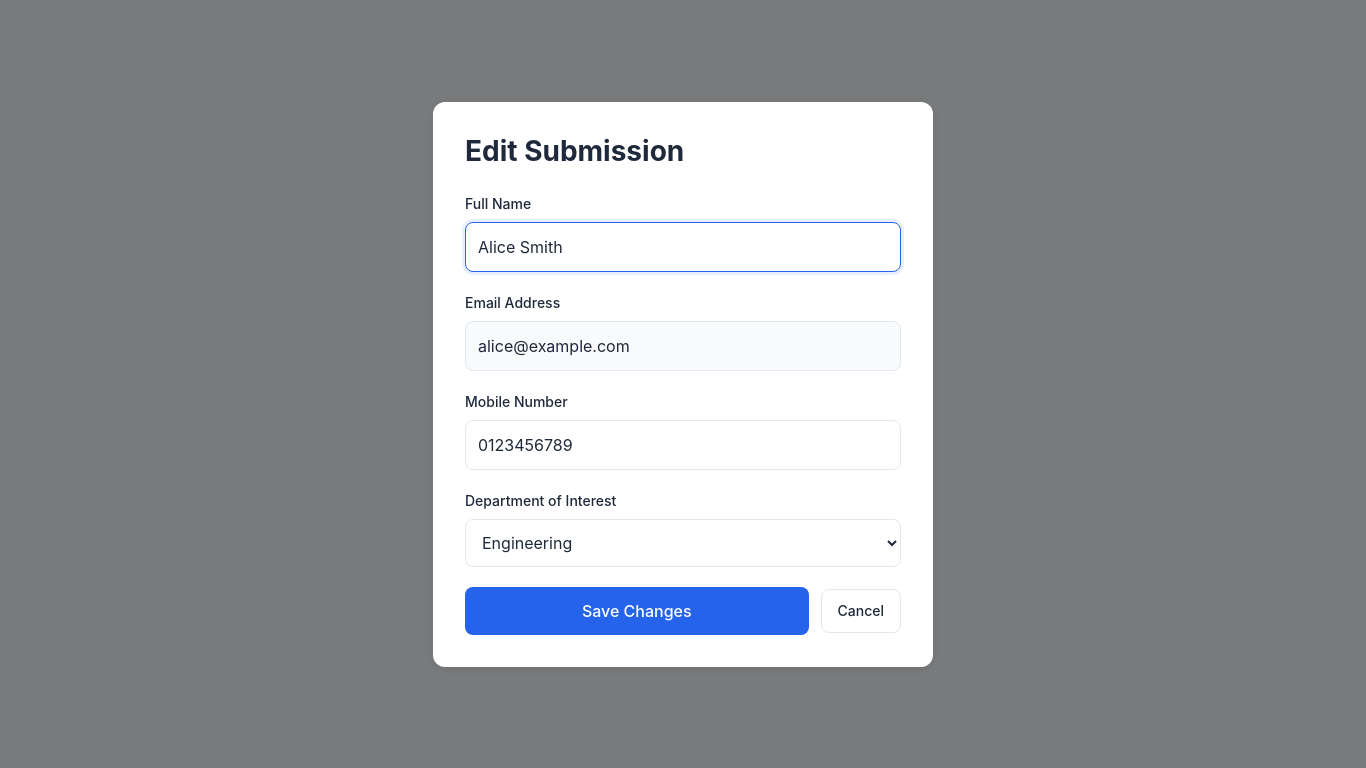
Test case: EditSubmission › shows actionable save errors and preserves edits until storage retry succeeds
Replace the text in the field labelled "Full Name" with "Changed Name". click: (683, 246)
box: top-left (465, 222), bottom-right (901, 272)
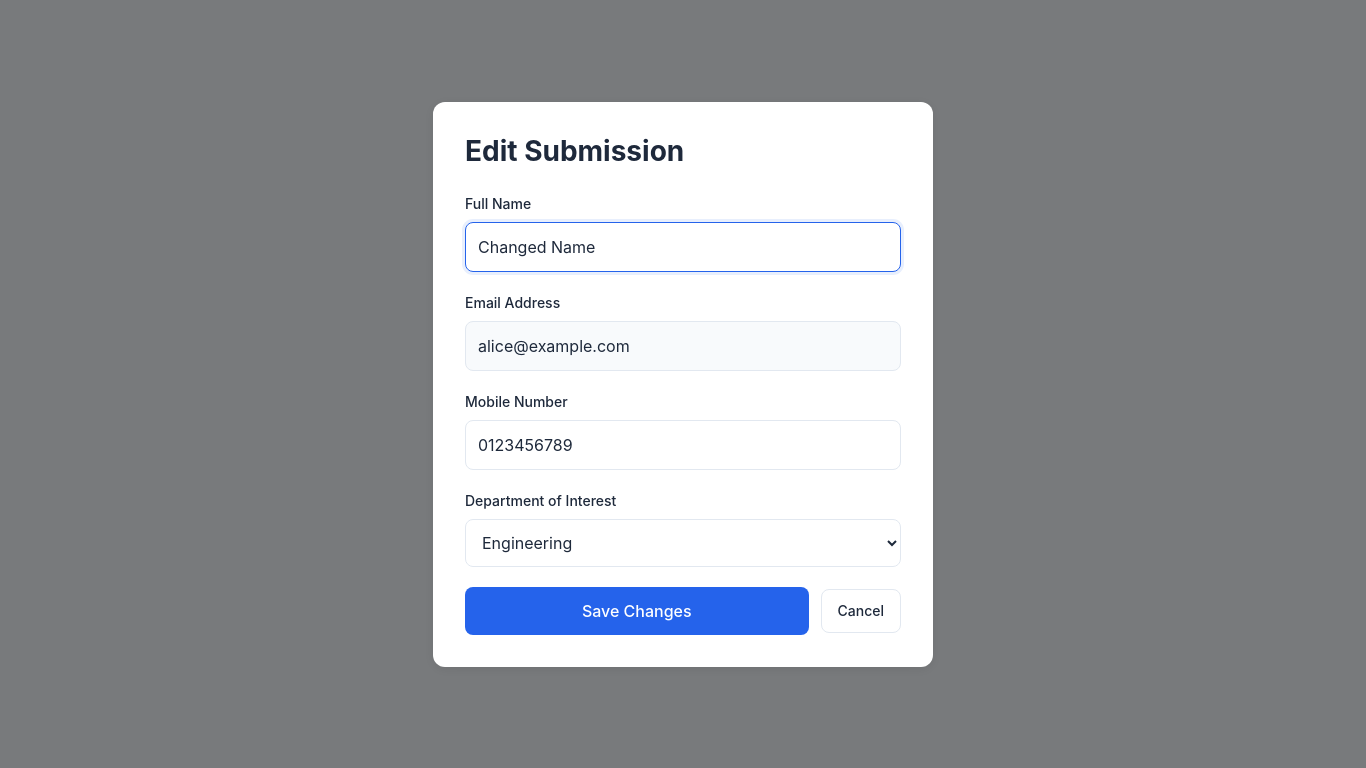
Click the button "Save Changes". click: (637, 610)
box: top-left (465, 586), bottom-right (808, 634)
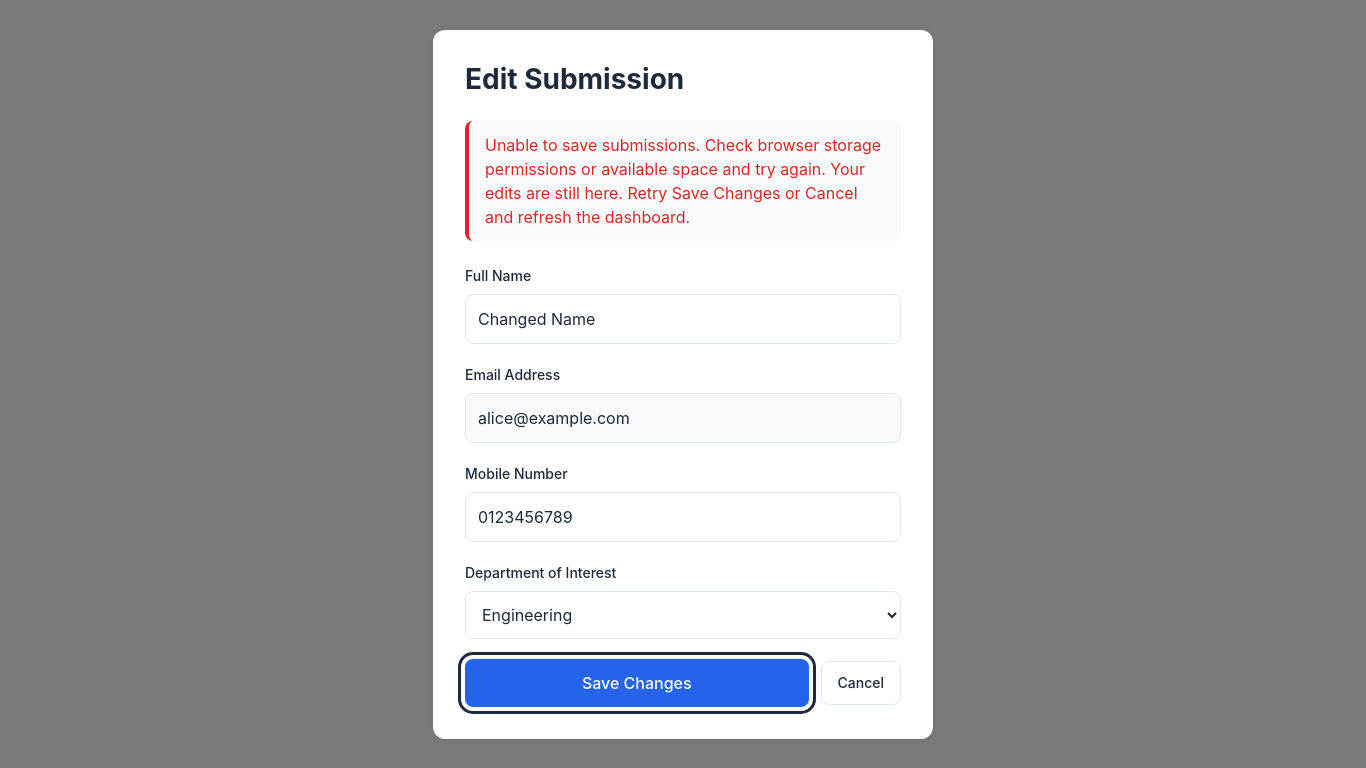
Result: the message shows "Unable to save submissions." at top-left (485, 134), bottom-right (881, 226)
Result: the message shows "Retry Save Changes" at top-left (485, 134), bottom-right (881, 226)
Click the button "Save Changes". click: (637, 682)
box: top-left (465, 658), bottom-right (808, 706)
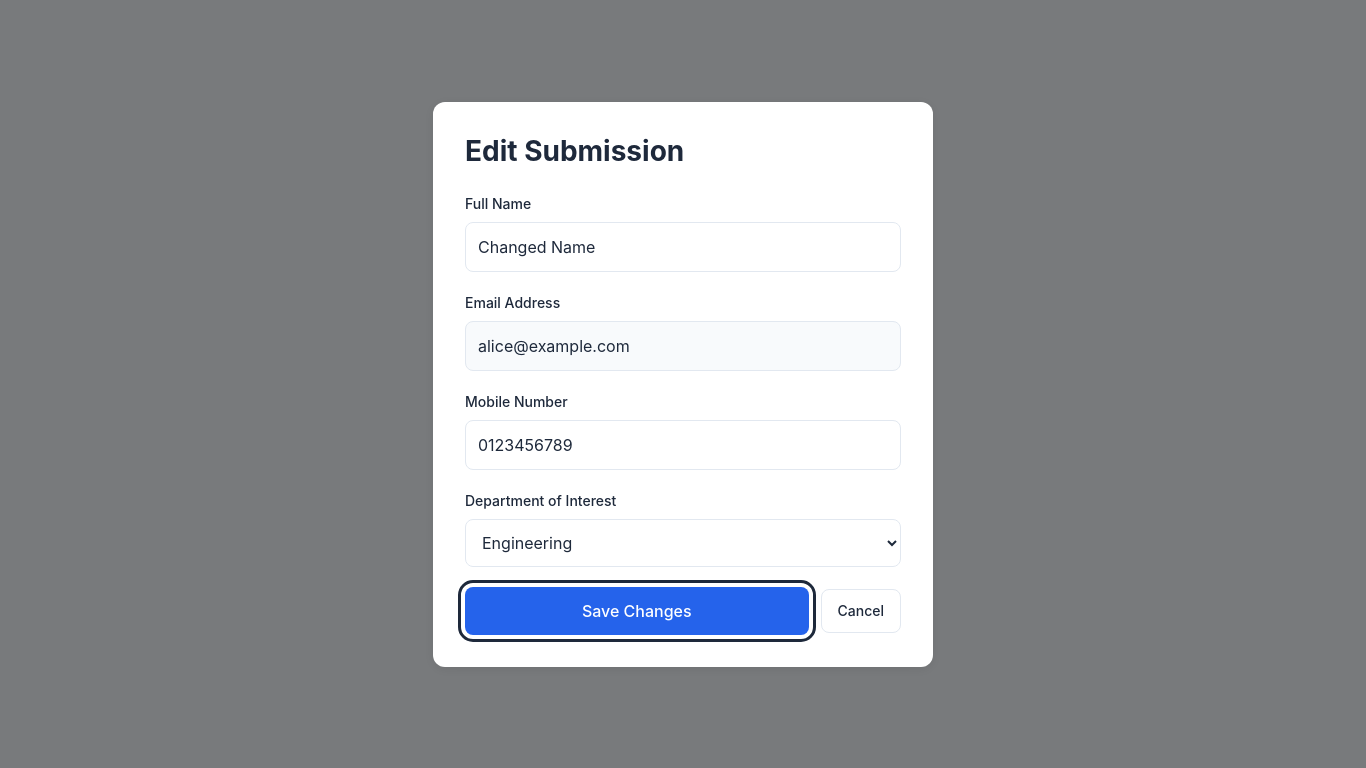
Result: the message is gone
